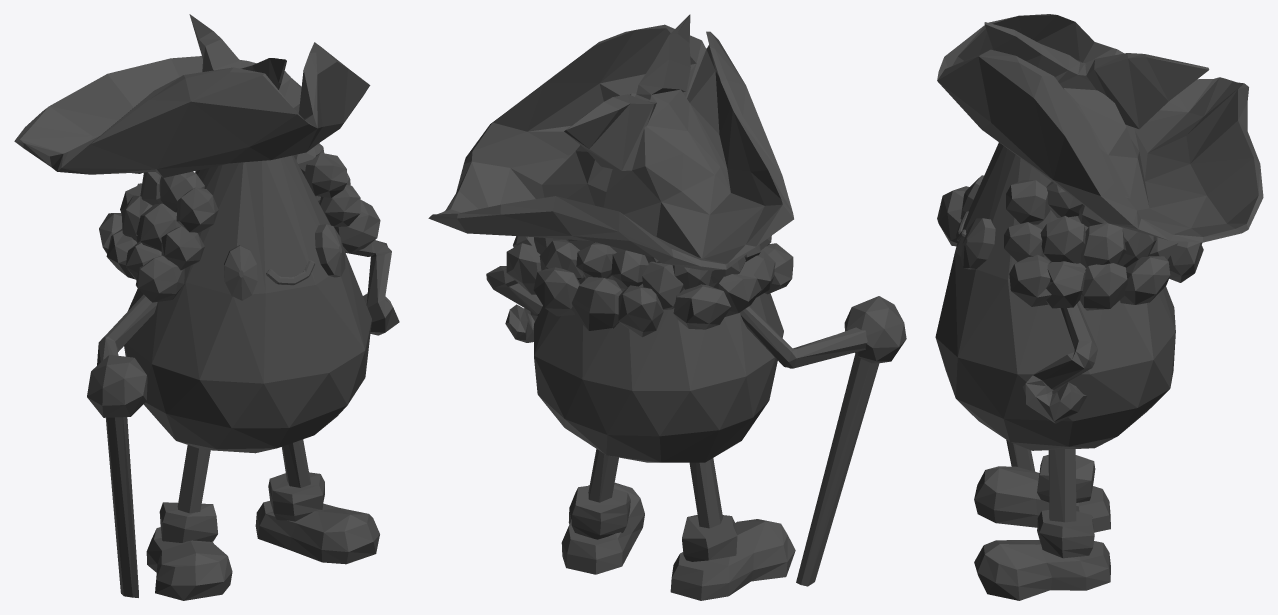
File: Statue_01.fbx
The picture shows the model from 3 angles, left to right: view 1: azimuth 30°, elevation 25°; view 2: azimuth 150°, elevation 25°; view 3: azimuth 270°, elevation 25°; orthographic projection.
Visible parts, largest first — view 1: Statue.002; view 2: Statue.002; view 3: Statue.002.
Boxes of the visible parts, x1=… form: Statue.002: x1=14, y1=14, x2=399, y2=600; Statue.002: x1=428, y1=14, x2=906, y2=600; Statue.002: x1=935, y1=14, x2=1263, y2=600.
Size of the model in its own units: 18943 by 26470 by 14838.
